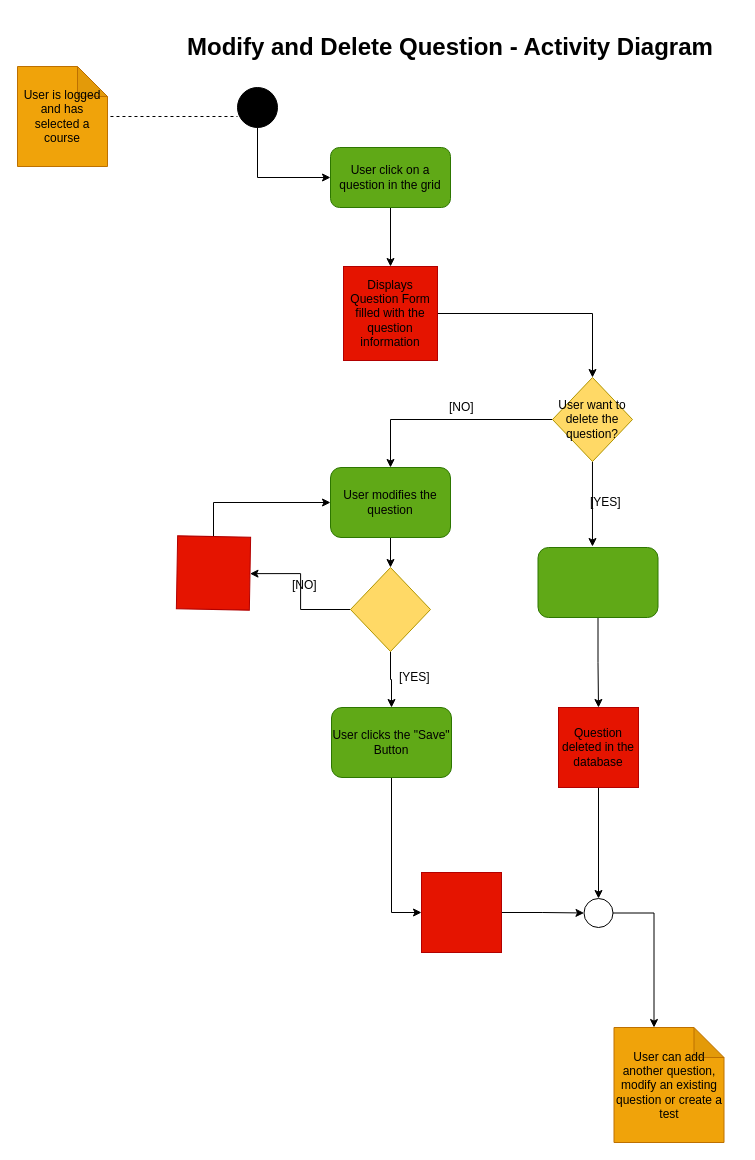
Image size: 755x1160. Some labels were removed from this diagram. Each missing label, with the centre of its shape:
All mandatory fields filled?: (x=390, y=609)
Error message: (x=213, y=572)
Question modified in the database: (x=461, y=912)
User clicks the "Delete" Button: (x=597, y=582)
